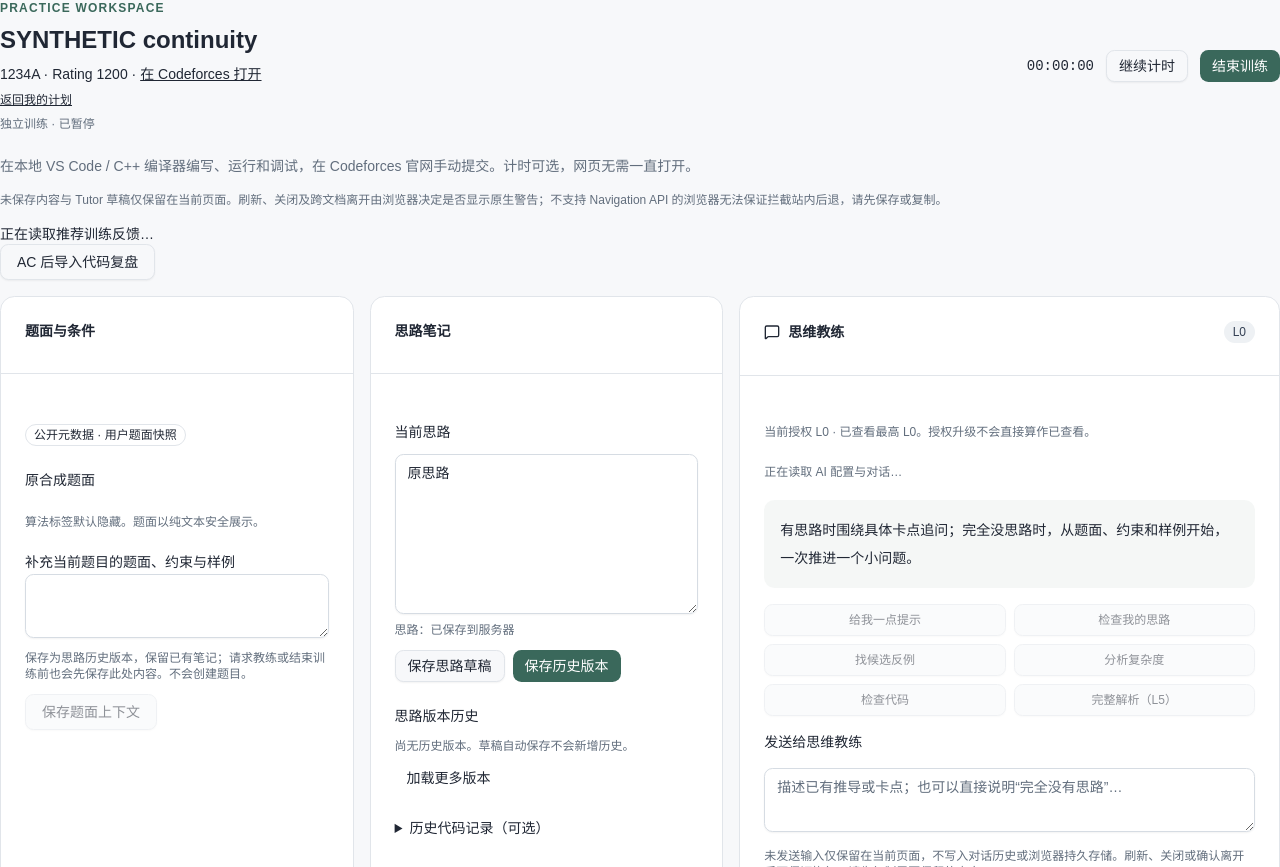
Test: a definitive save refusal leaves editable drafts and a corrected input gets a new ticket
Expected: the text box labelled "发送给思维教练" is enabled, [764,768,1255,832]
Type "需要修改的内容" into the text box labelled "补充当前题目的题面、约束与样例" at x=177, y=606, box [25,574,329,638]
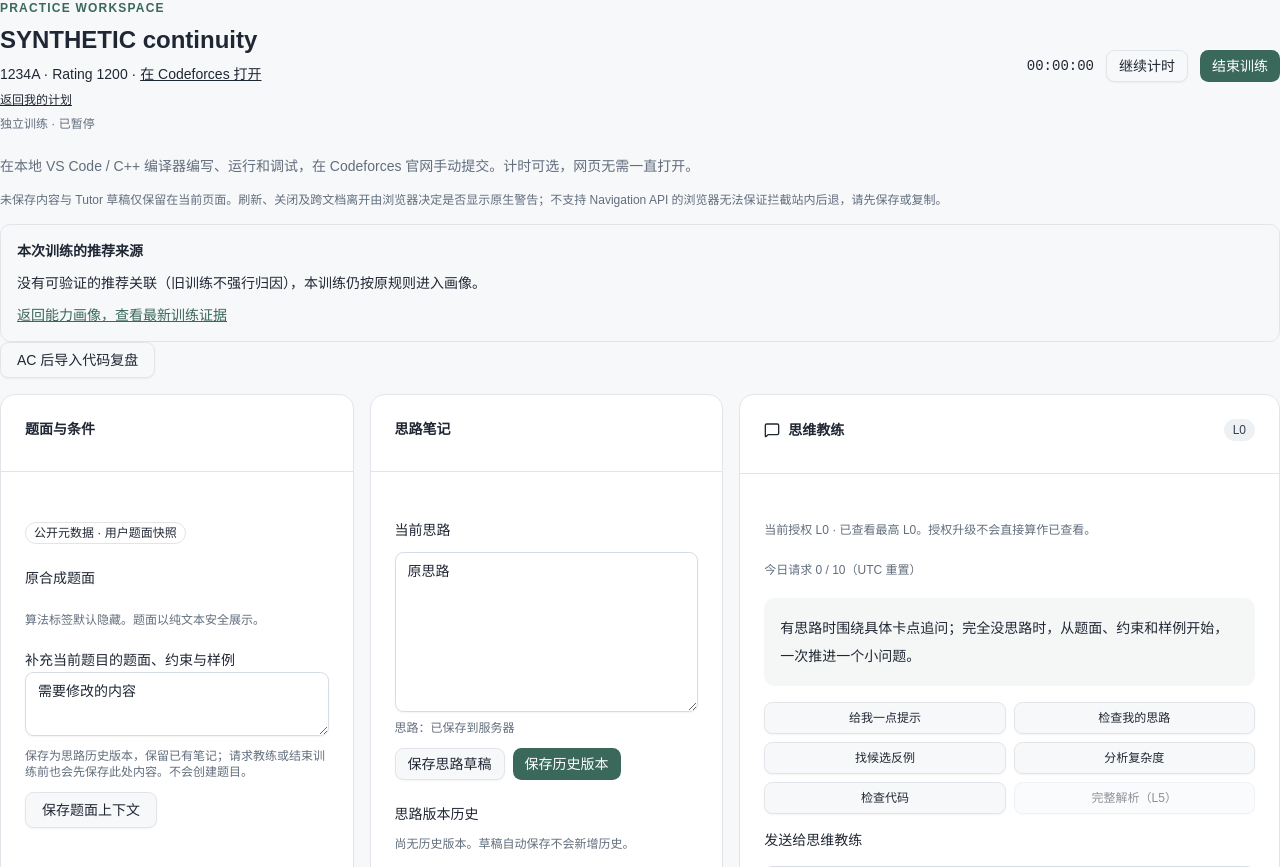
Click the button "保存题面上下文" at x=91, y=810, box [25,792,157,828]
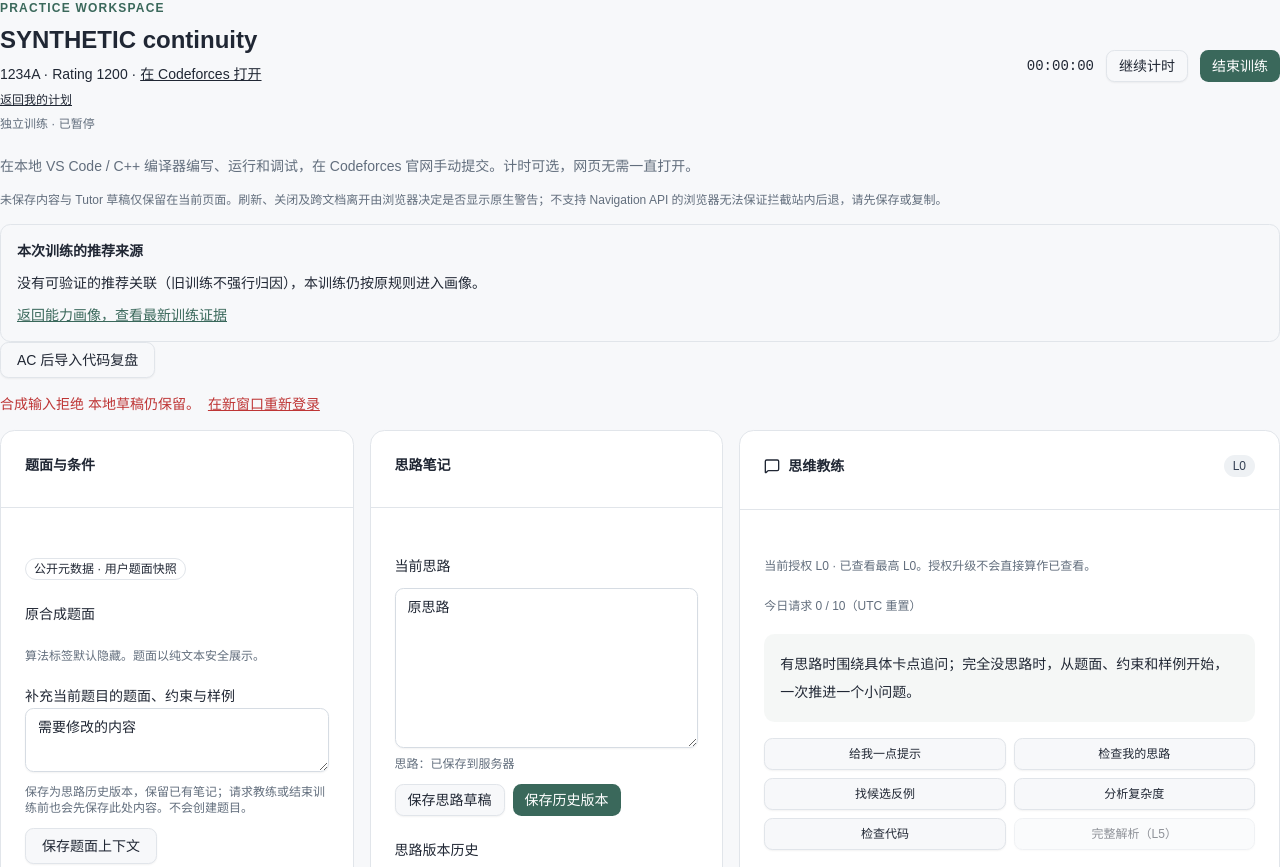
Expected: the text "合成输入拒绝 本地草稿仍保留。 在新窗口重新登录" is shown, [0,396,320,412]
Replace the text in the text box labelled "补充当前题目的题面、约束与样例" with "修正后的条件" at x=177, y=740, box [25,708,329,772]
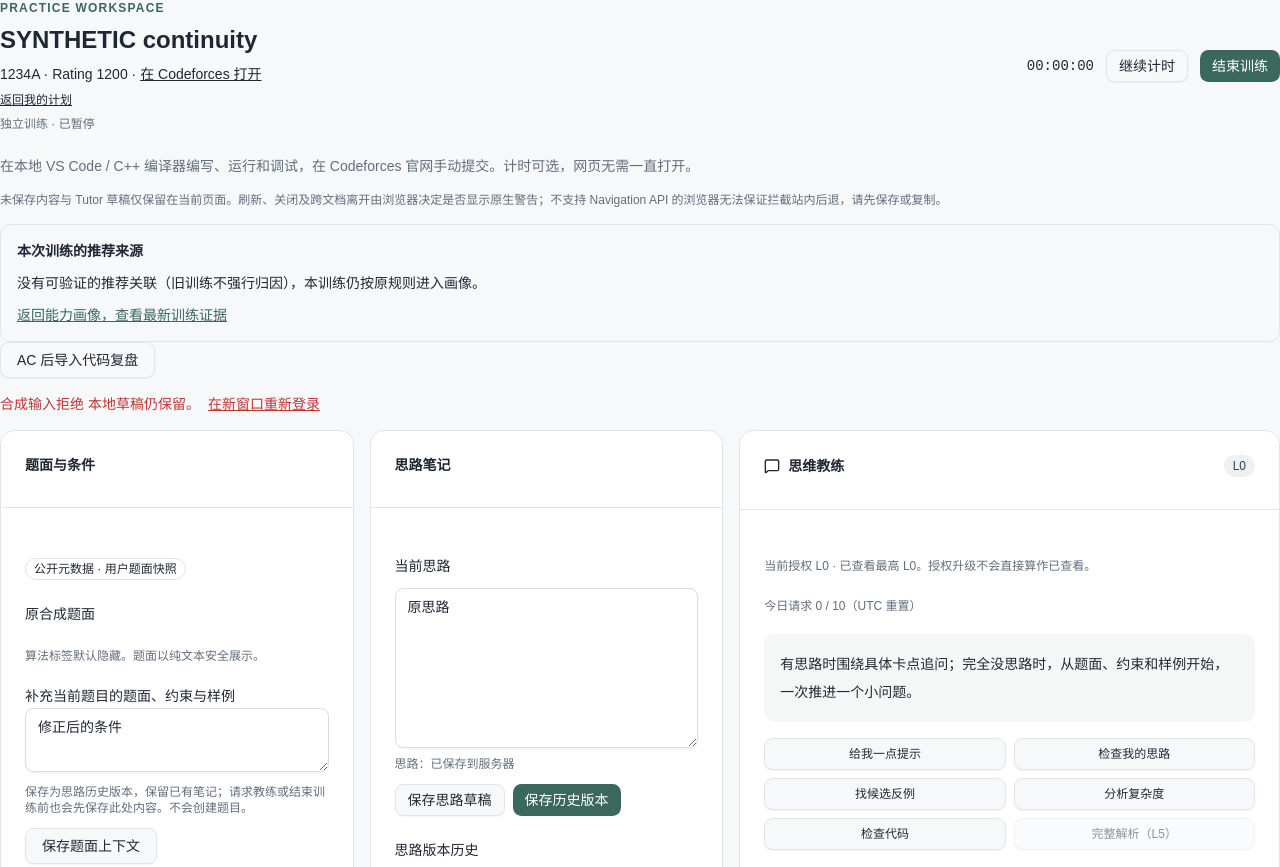
Click the button "保存题面上下文" at x=91, y=846, box [25,828,157,864]
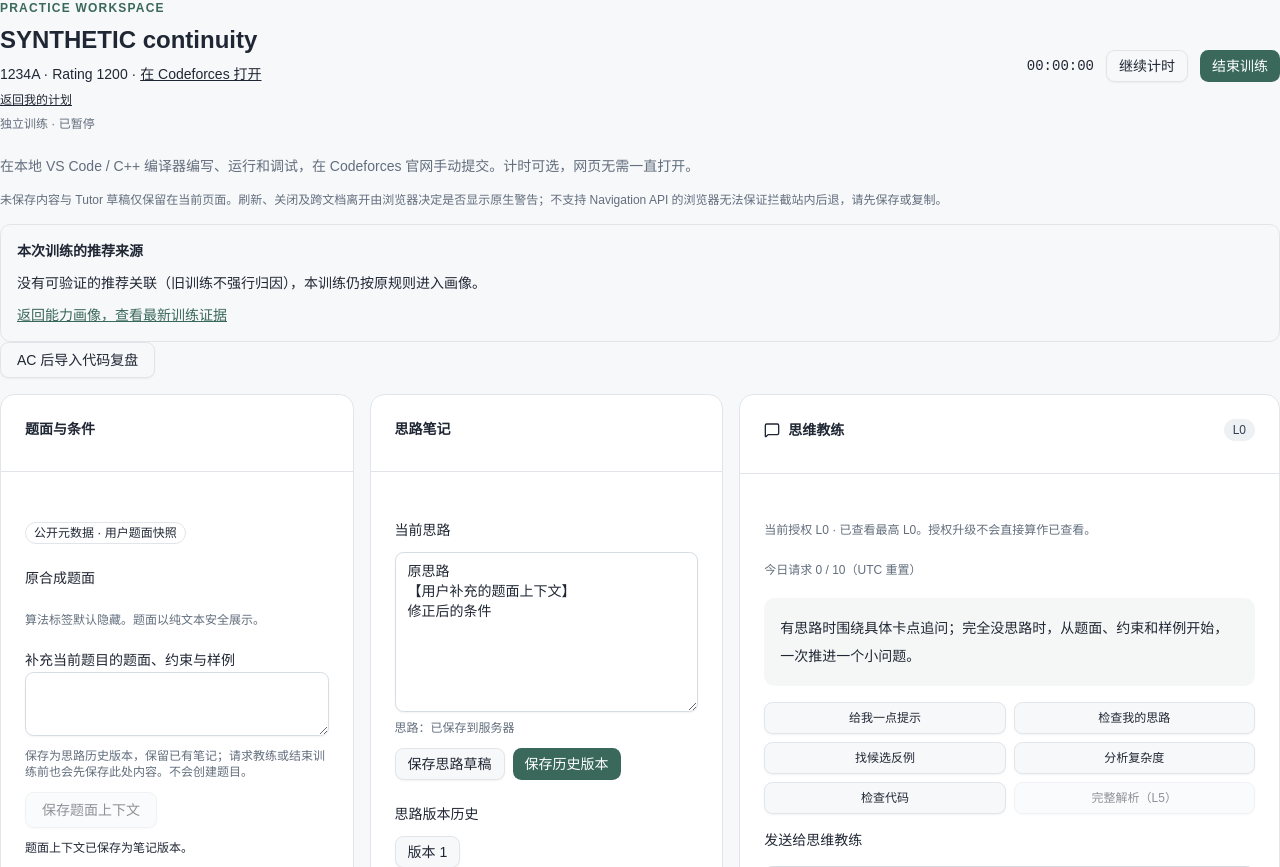
Expected: the text "题面上下文已保存为笔记版本。" is shown, [25,841,193,855]
Expected: the text box labelled "补充当前题目的题面、约束与样例" is empty, [25,672,329,736]
